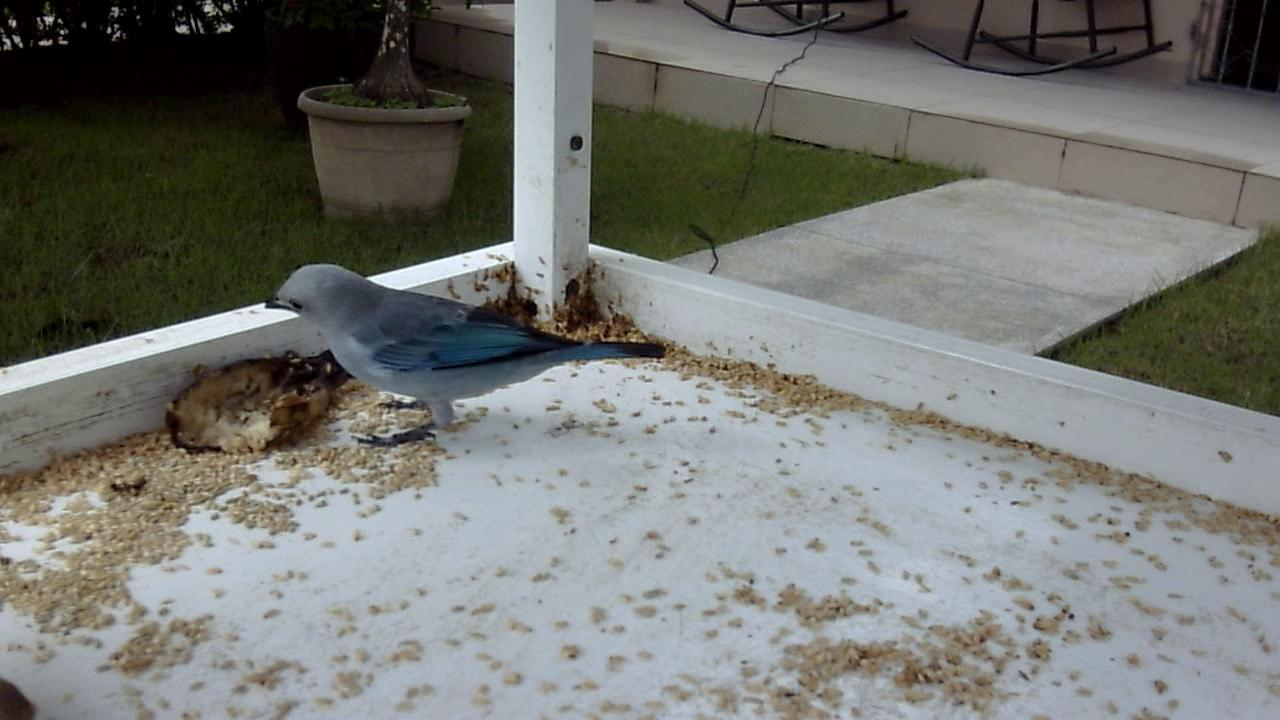sanhaco_da_amazonia: (269, 256, 668, 456)
